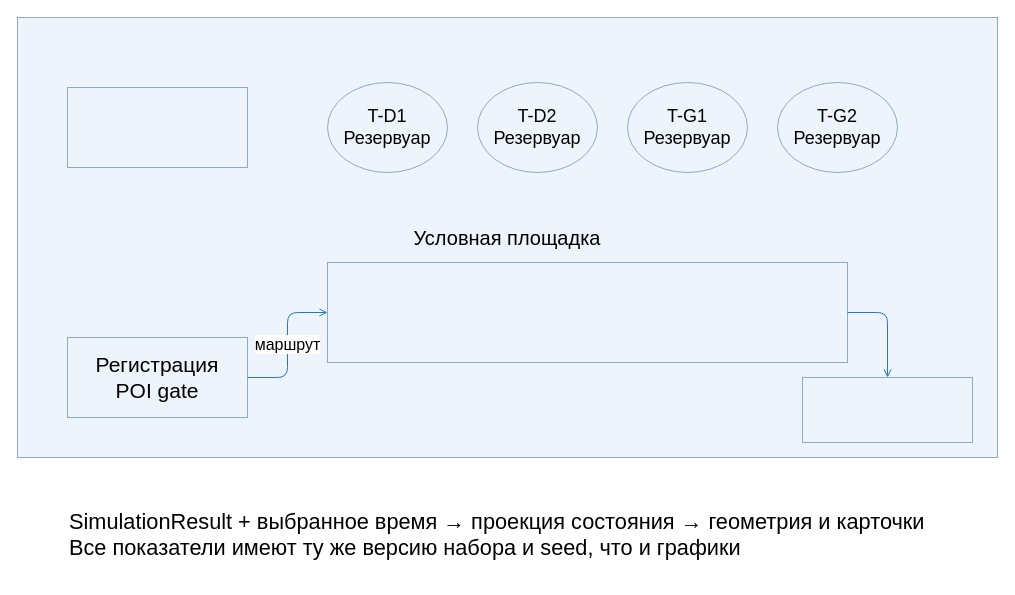
Some shapes in this 1015 by 595 pixel diagram are drawn without their labels. The centre of each missing label's shape, as x and y in pixels:
Лаборатория POI lab: (157,127)
Оформление POI dispatch: (887,409)
Посты loading-1 … loading-6 Машина занимает пост по Visit.start / Visit.end: (587,312)
